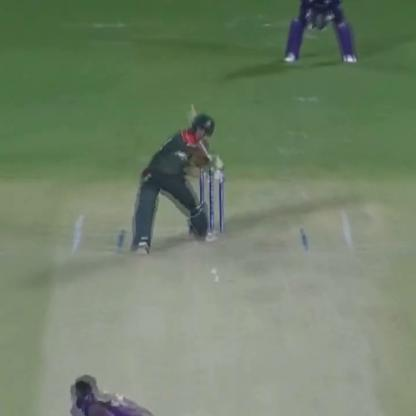ball: (208, 273, 226, 286), (204, 266, 221, 274)
bat: (182, 105, 224, 176)
pitch: (22, 202, 400, 415)
